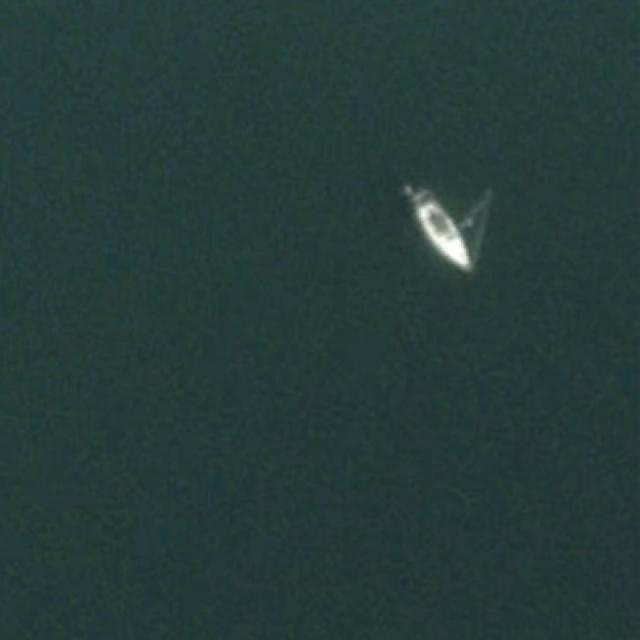boat: (406, 181, 477, 272)
